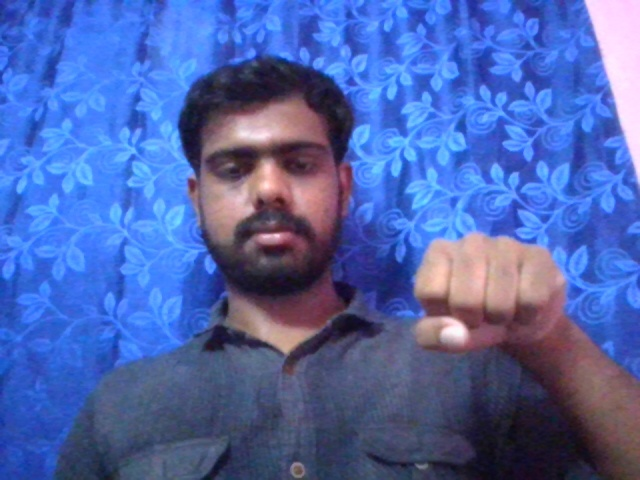Yes: (401, 231, 575, 354)
